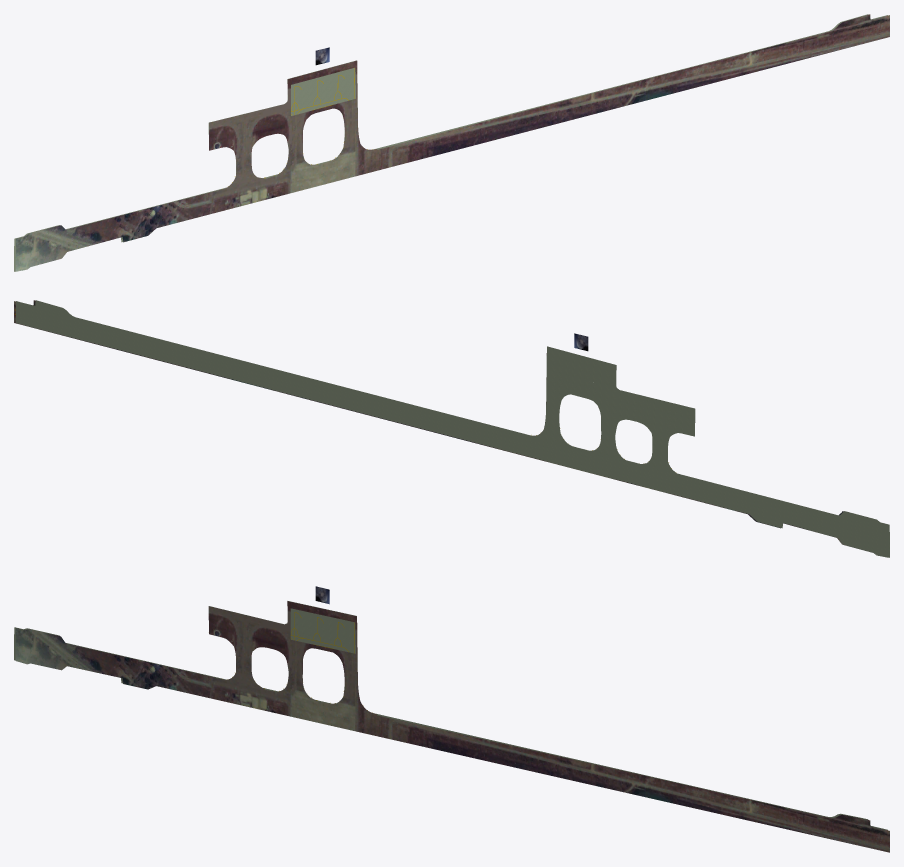
File: Combined Scene.obj
The picture shows the model from 3 angles, top to bottom: view 1: azimuth 30°, elevation 25°; view 2: azimuth 150°, elevation 25°; view 3: azimuth 330°, elevation 25°; orthographic projection.
Parts seen in each view (by area): view 1: node7, node1; view 2: node1, node7; view 3: node7, node1.
Part boxes in pixels (box(x1,y1,x2,y2)): node7: box(15, 14, 889, 271); node1: box(14, 14, 887, 271); node1: box(16, 300, 889, 557); node7: box(14, 300, 887, 557); node7: box(15, 601, 889, 852); node1: box(14, 601, 887, 830).
Size of the model in its own units: 2469 by 400 by 0.3913.
Materials: 7 (7 with a texture image).
